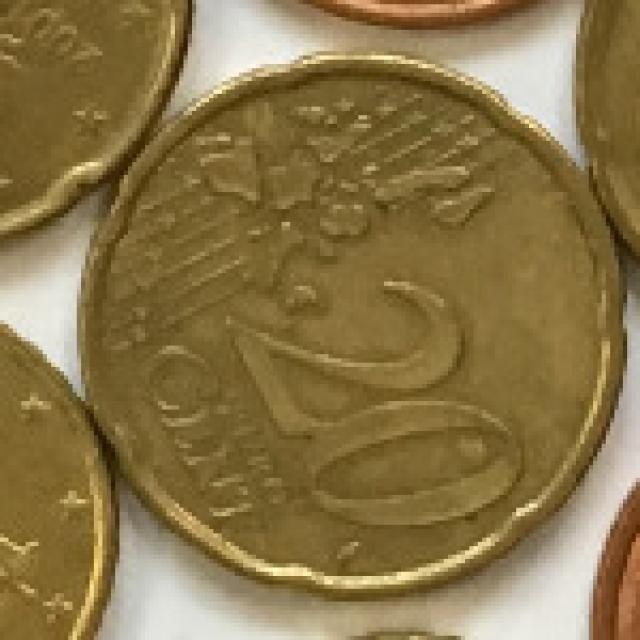20c: (34, 34, 632, 623)
